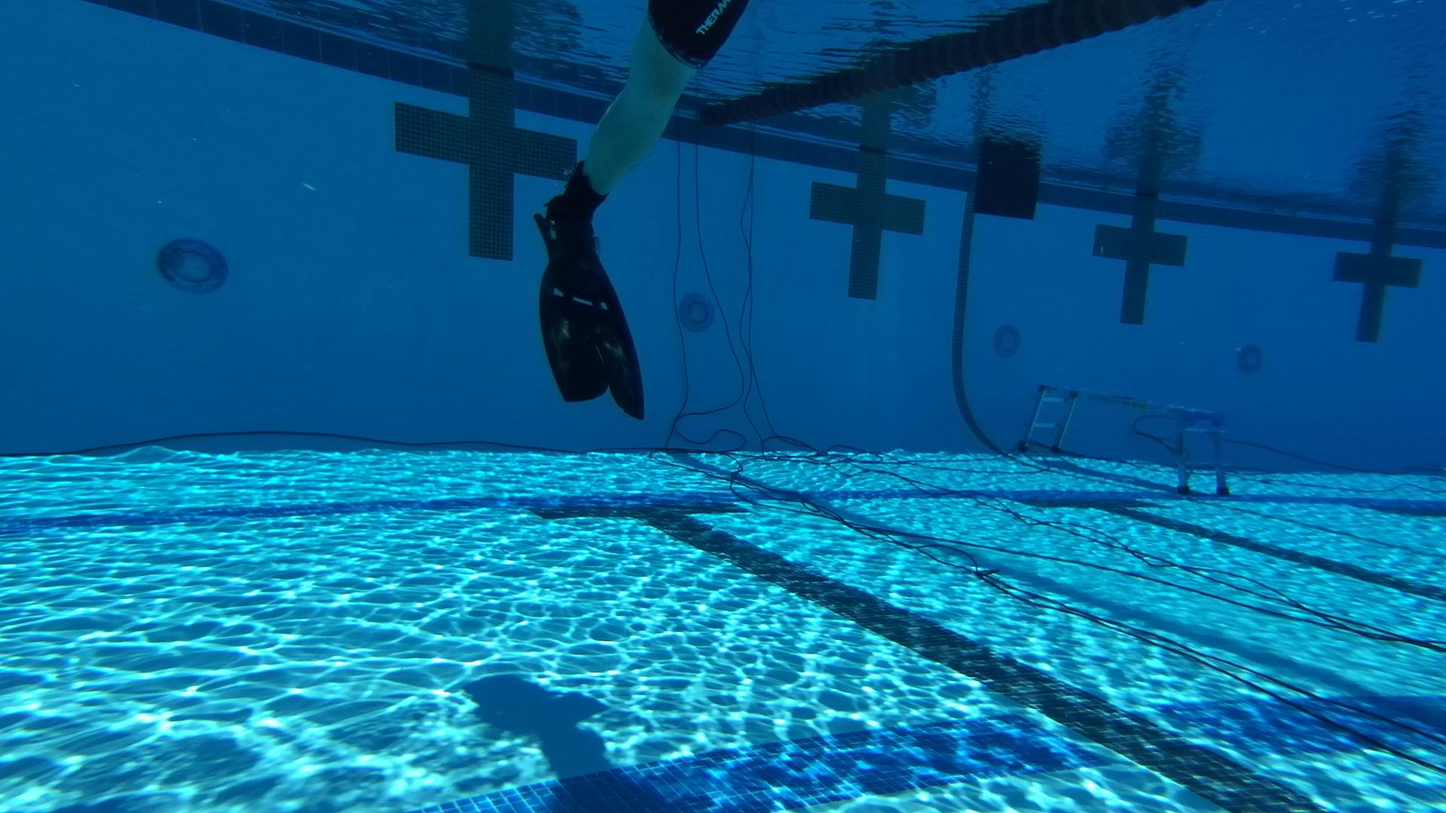path: (1013, 376, 1238, 501)
